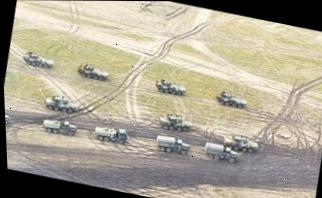truck: (201, 139, 242, 165), (154, 132, 193, 157), (221, 130, 260, 155), (156, 111, 194, 136), (92, 123, 129, 146), (41, 93, 79, 115), (20, 49, 57, 71), (41, 116, 77, 138), (74, 62, 111, 83), (151, 77, 189, 97), (215, 90, 249, 111)
